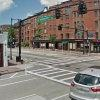Car: (63, 60, 100, 100)
